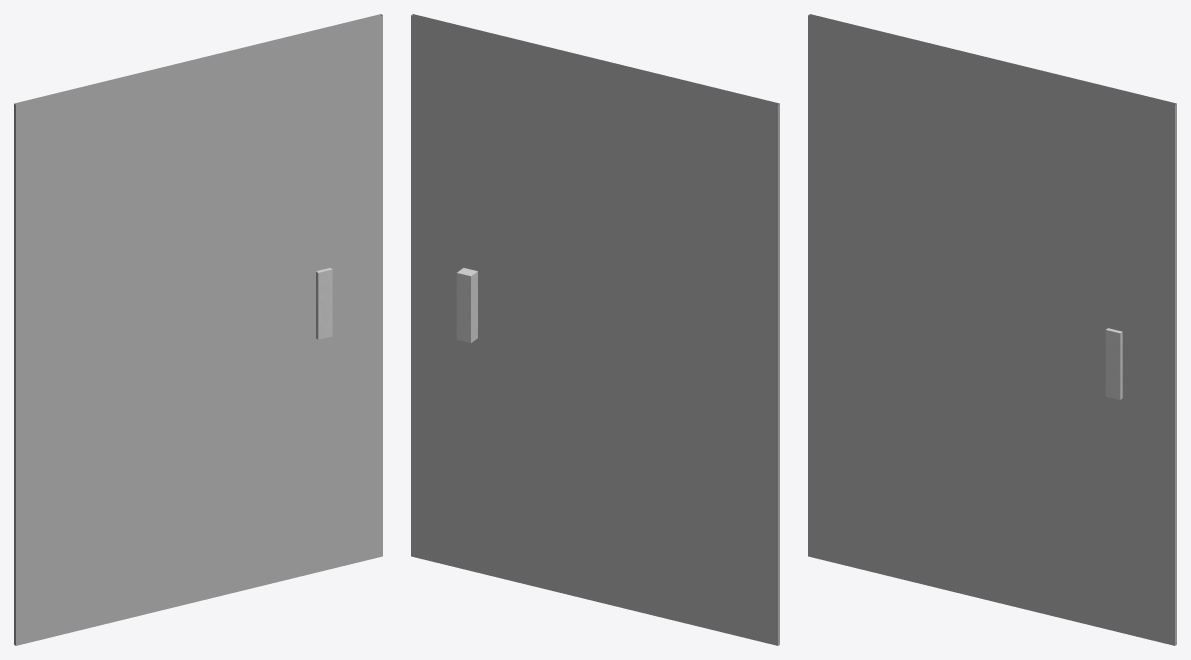
File: SM_实验室台秤01.fbx
The picture shows the model from 3 angles, left to right: view 1: azimuth 30°, elevation 25°; view 2: azimuth 150°, elevation 25°; view 3: azimuth 330°, elevation 25°; orthographic projection.
Visible parts, largest first — view 1: 对象001; view 2: 对象001; view 3: 对象001.
Part boxes in pixels (x1=…): 对象001: x1=14, y1=14, x2=382, y2=645; 对象001: x1=411, y1=14, x2=779, y2=645; 对象001: x1=808, y1=14, x2=1176, y2=645.
Size of the model in its own units: 0.1666 by 0.2348 by 0.00873.
